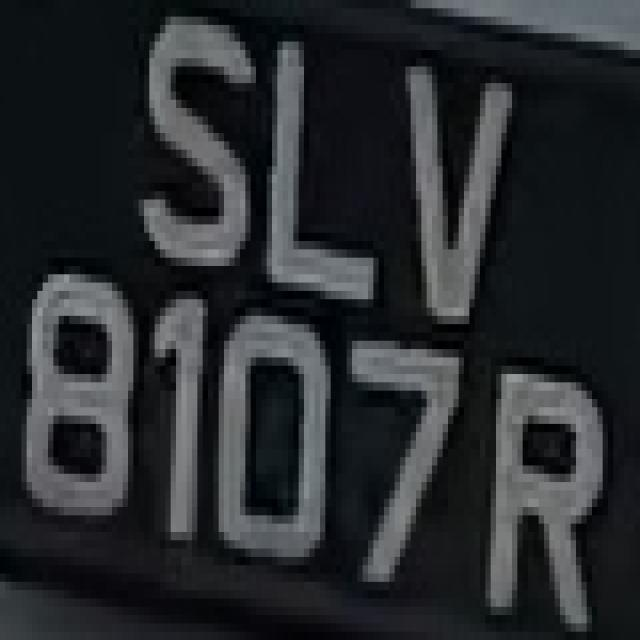0: (213, 274, 336, 582)
1: (144, 241, 219, 574)
7: (330, 299, 474, 607)
8: (16, 216, 144, 549)
L: (262, 33, 389, 341)
R: (4, 4, 5, 8)
S: (123, 25, 261, 291)
V: (389, 41, 534, 316)
